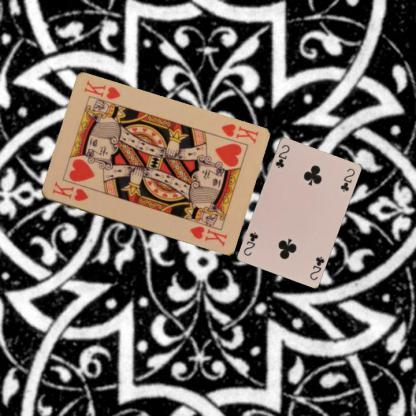2c: (307, 254, 326, 281), (272, 142, 290, 169)
Kh: (216, 120, 260, 146), (49, 178, 90, 203)
